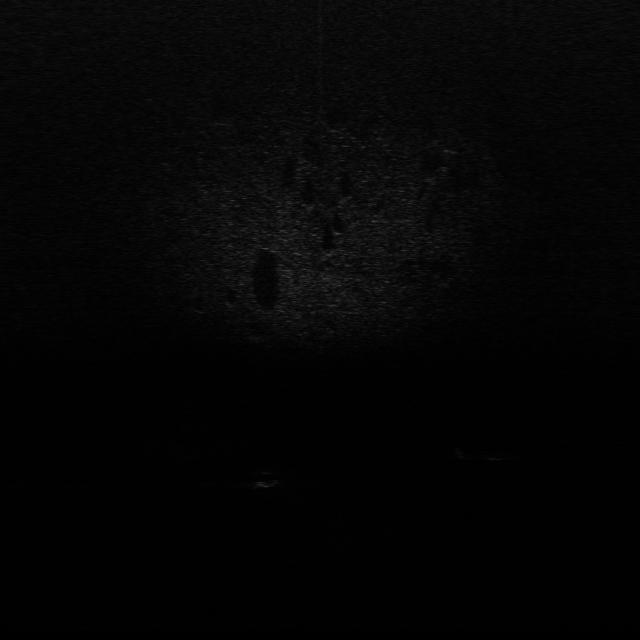ball: (250, 466, 282, 492)
human body: (450, 440, 534, 464)
